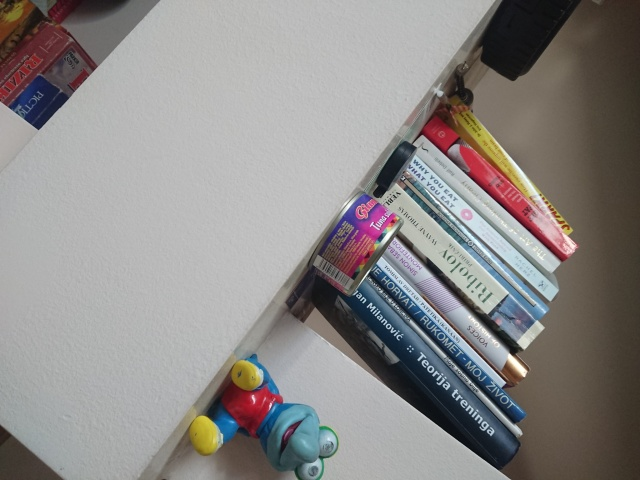Giana Tuna Salad Mexico 185g: (304, 184, 406, 300)
